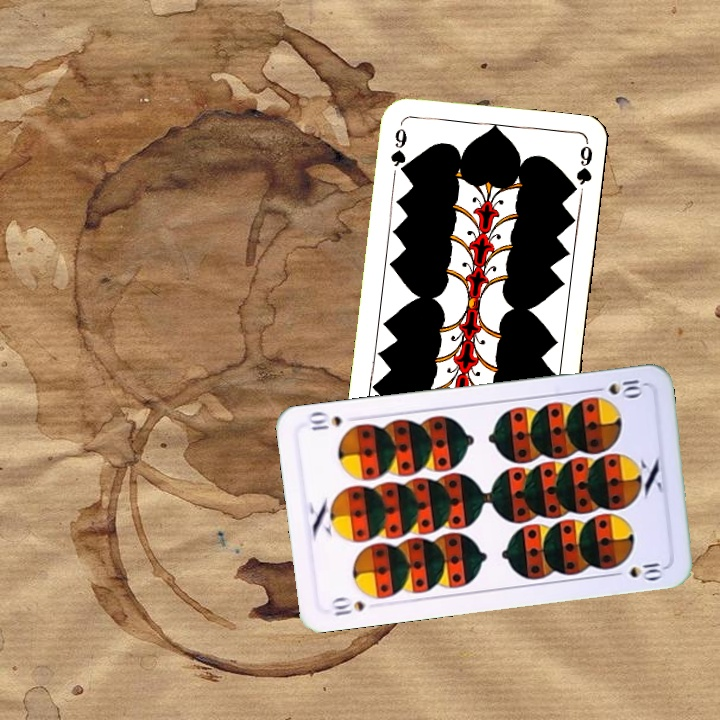G9: (386, 124, 409, 178)
S10: (588, 376, 646, 398), (327, 593, 367, 619)
